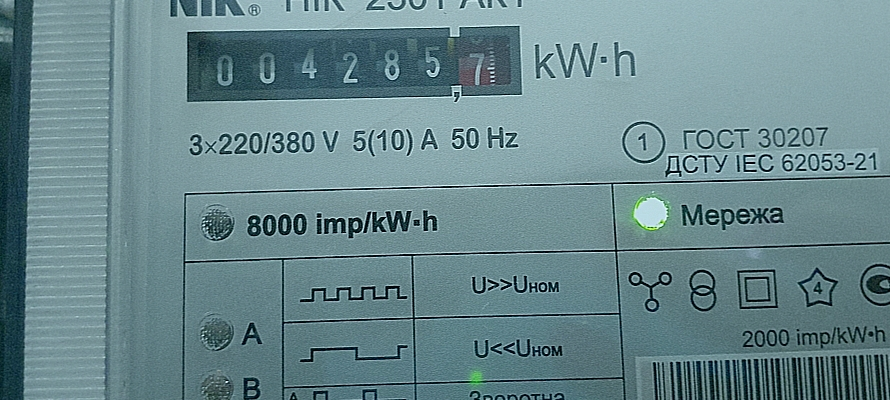0: (255, 49, 277, 86), (213, 52, 234, 87)
2: (339, 50, 358, 85)
4: (299, 46, 316, 81)
5: (420, 43, 441, 79)
7: (465, 51, 485, 87)
8: (379, 46, 401, 83)
screen: (170, 15, 536, 115)
